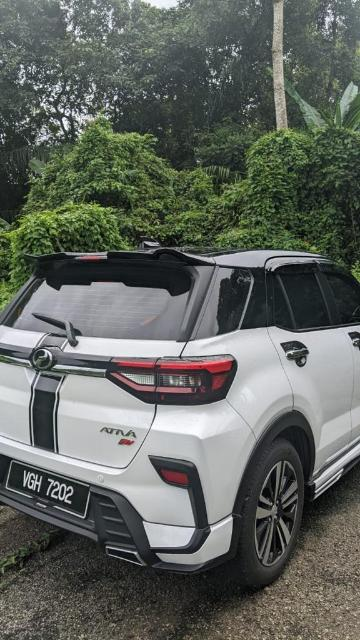License_Plate: (8, 459, 83, 511)
car: (3, 234, 360, 587)
